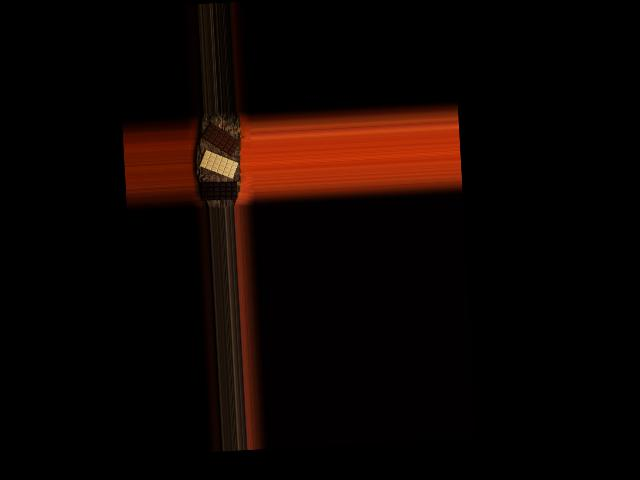chocolate: (199, 181, 237, 202)
